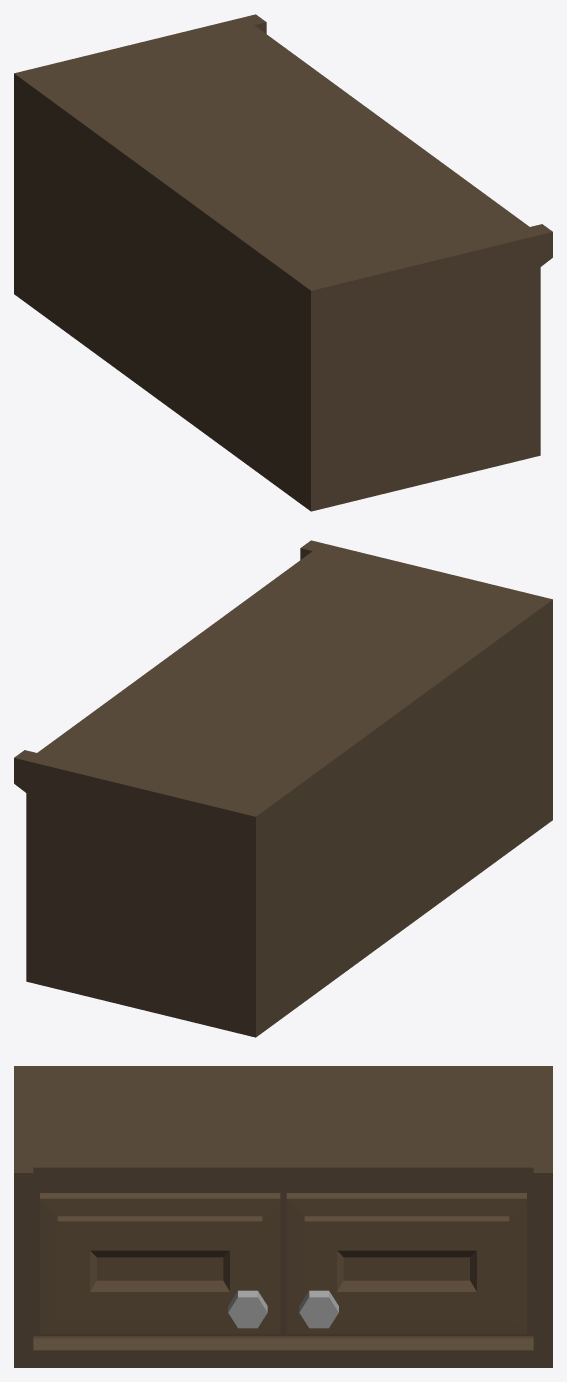
File: SM_kitchenCabinet_006.glb
The picture shows the model from 3 angles, top to bottom: view 1: azimuth 30°, elevation 25°; view 2: azimuth 150°, elevation 25°; view 3: azimuth 270°, elevation 25°; orthographic projection. The views are drawn at different scales.
Visible parts, largest first — view 1: SM_kitchenCabinet_006; view 2: SM_kitchenCabinet_006; view 3: SM_kitchenCabinet_006.
Boxes of the visible parts, <box> form: SM_kitchenCabinet_006: <box>14,14,552,511</box>; SM_kitchenCabinet_006: <box>14,540,552,1037</box>; SM_kitchenCabinet_006: <box>14,1066,552,1367</box>.
Size of the model in its own units: 0.4957 by 0.41 by 1.
Materials: 1 (1 with a texture image).
